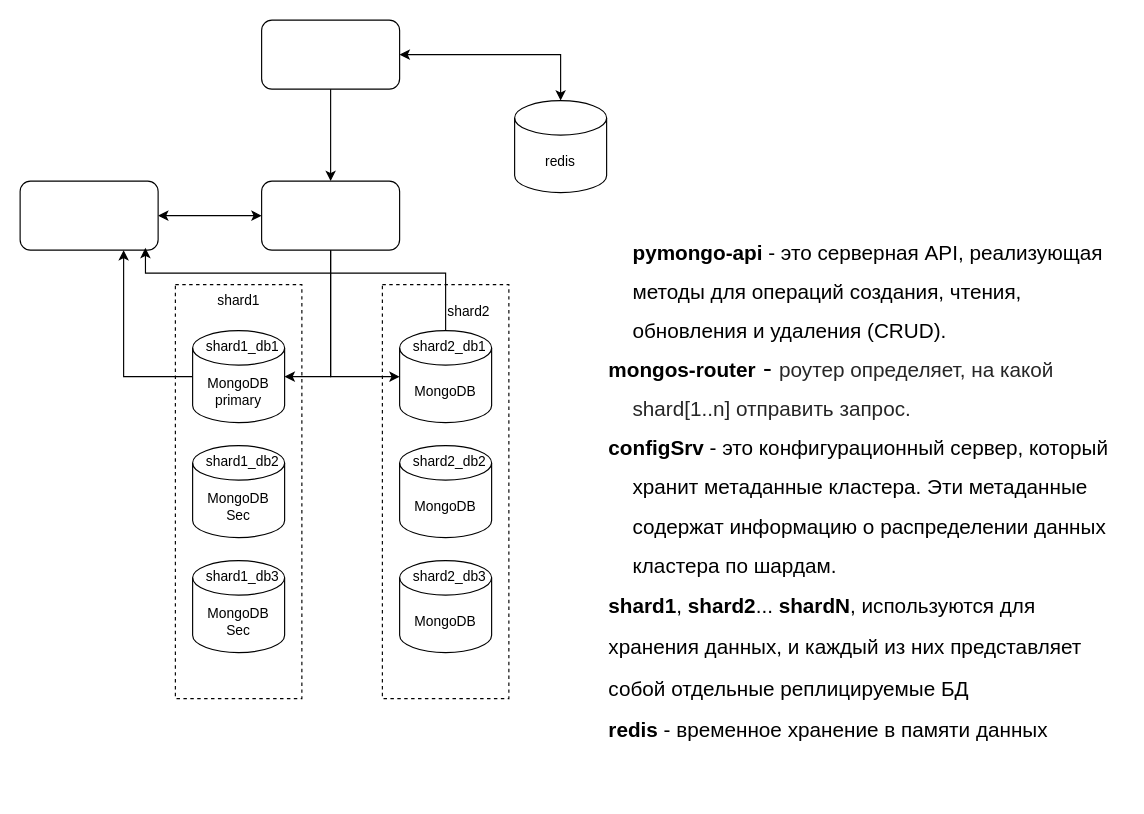
Image size: 1144x814. Some labels were removed from this diagram. The shapes that lost their labels are listed below. From the top down, each one's centre as x and y in pixels, then its label:
At (330,54): "pymongo-api".
At (88,215): "configSrv".
At (330,215): "mongos-router".
